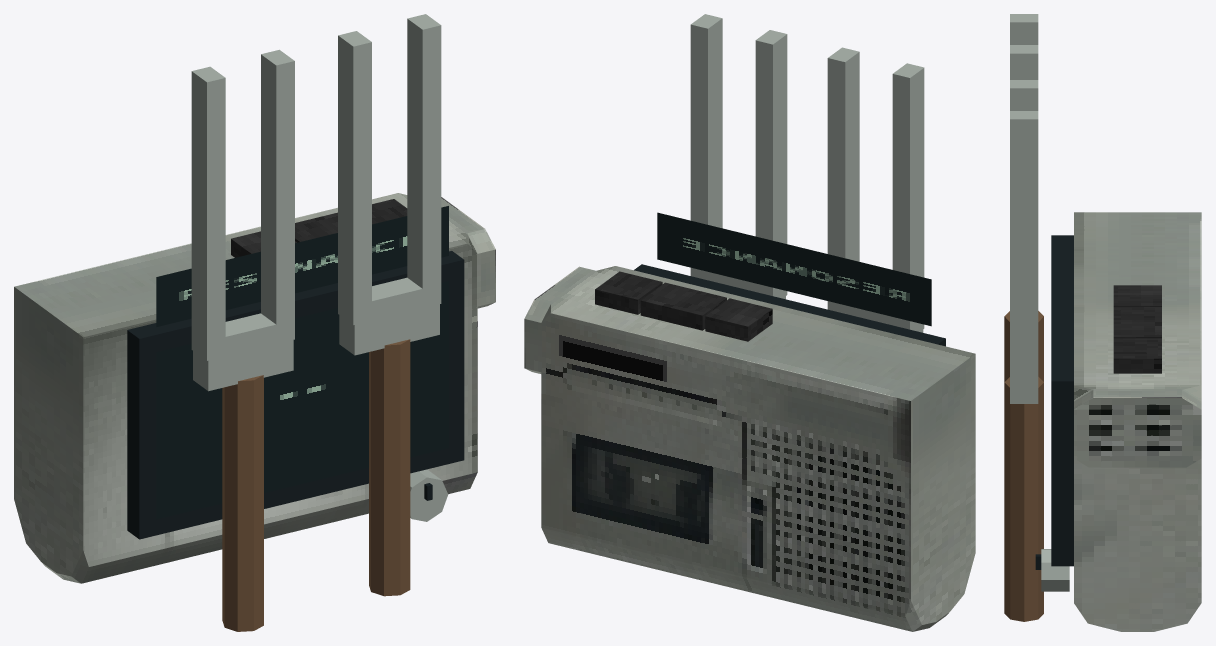
File: blender_resonance_tuner_2.glb
The picture shows the model from 3 angles, left to right: view 1: azimuth 30°, elevation 25°; view 2: azimuth 150°, elevation 25°; view 3: azimuth 270°, elevation 25°; orthographic projection. The views are drawn at different scales.
Parts seen in each view (by area): view 1: blender_resonance_tuner_2; view 2: blender_resonance_tuner_2; view 3: blender_resonance_tuner_2.
Part boxes in pixels (x1=…): blender_resonance_tuner_2: x1=14, y1=14, x2=495, y2=631; blender_resonance_tuner_2: x1=524, y1=14, x2=975, y2=631; blender_resonance_tuner_2: x1=1004, y1=14, x2=1201, y2=631.
Bounding box in the file's own units: 0.155 × 0.2 × 0.0695.
1 material, 1 textured.
